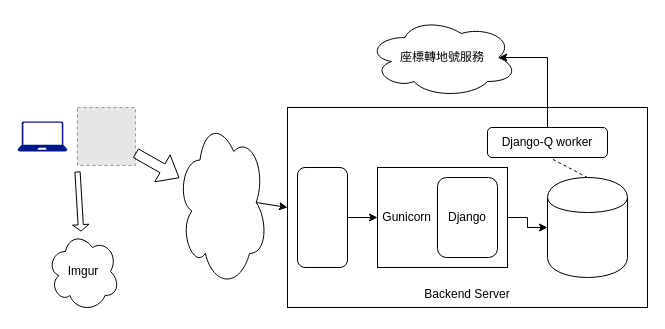
The diagram is 665 pixels wide and 329 high, and some of its shapes have lost their labels. Grey dashed boxes stand in for pictures. The centre of each missing label's shape, as x and y in pixels:
"Caddy" goes at [322,217].
"Cloudflare" goes at [222,202].
"PostgresQL + PostGIS" goes at [587,227].
